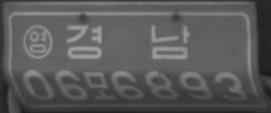0: (21, 67, 55, 101)
3: (214, 70, 248, 103)
6: (55, 69, 88, 102), (113, 69, 145, 101)
8: (145, 69, 179, 100)
9: (179, 69, 214, 101)
경남_D: (66, 23, 191, 60)
모: (89, 70, 113, 101)
영: (23, 23, 54, 60)
